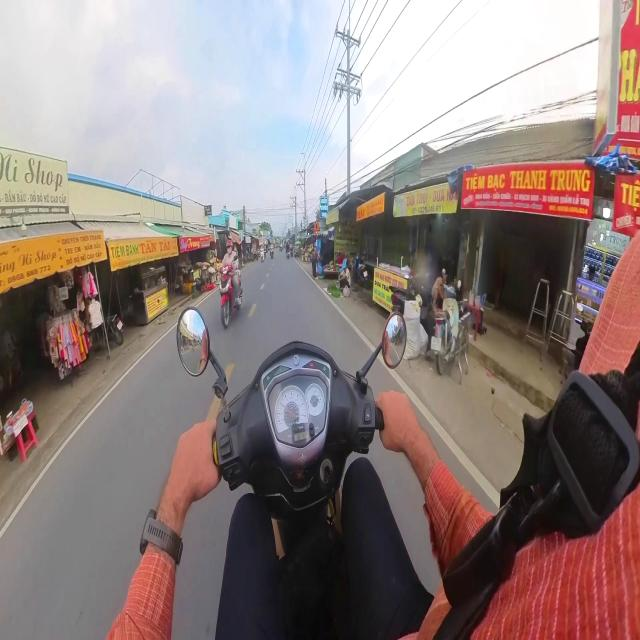motorcycle: (178, 308, 406, 638), (429, 286, 470, 375), (220, 265, 234, 328), (270, 249, 273, 258)
